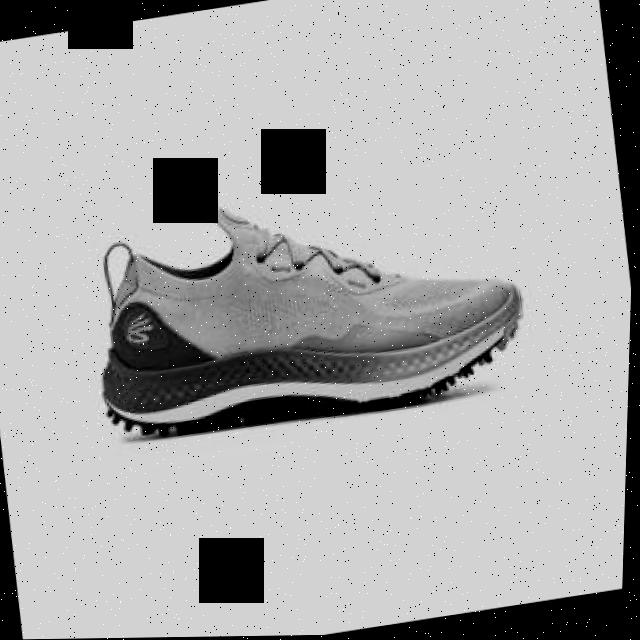shoe: (80, 161, 539, 449)
